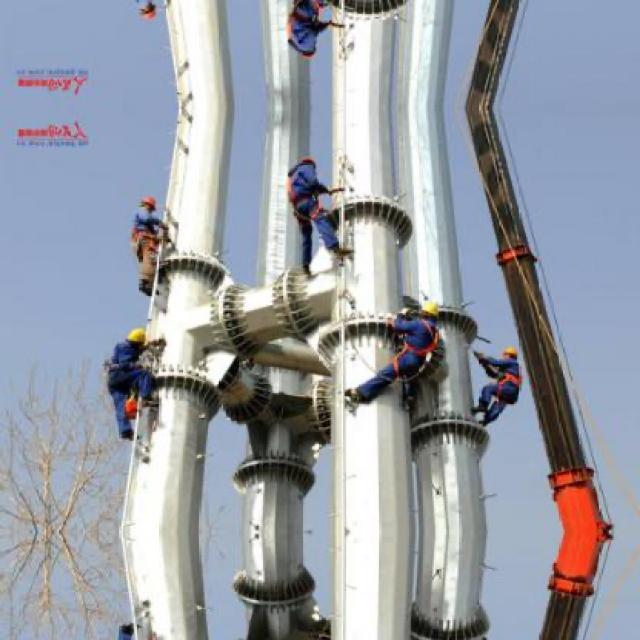helmet: (120, 322, 149, 357), (418, 294, 440, 322), (498, 342, 522, 366), (137, 191, 160, 216), (137, 0, 160, 25)
